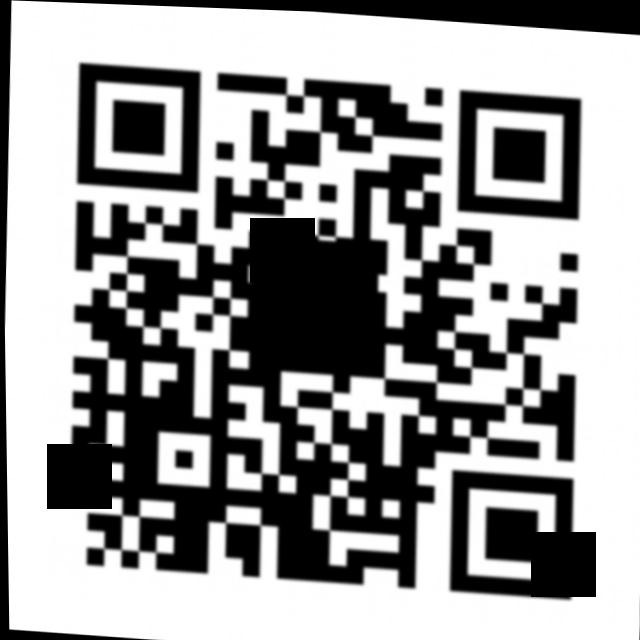QR_CODE: (40, 41, 610, 609)
